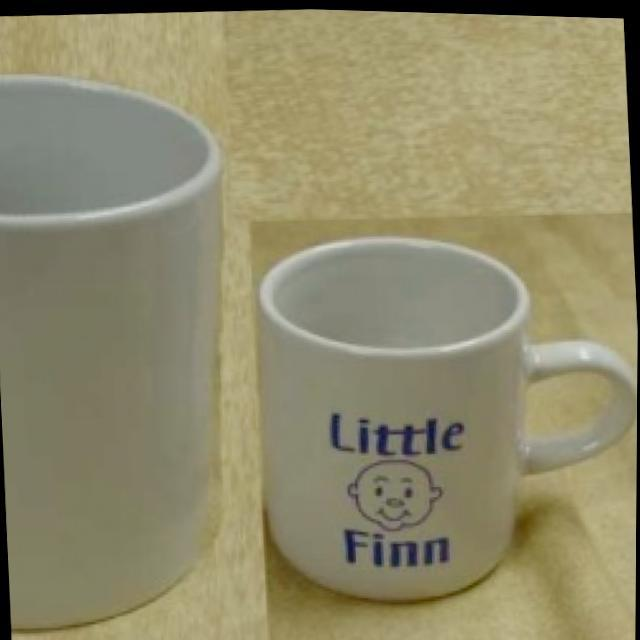cup: (230, 205, 638, 592)
